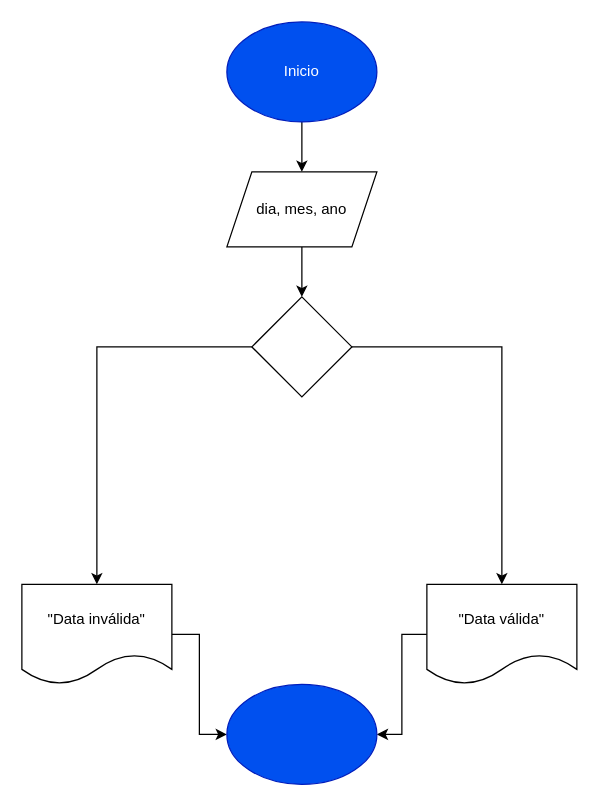
This 599x806 diagram has some shape labels left out. The box of each missing label's shape, as (x1, y1, x2, y2) in pixels:
dia <= 31 mes <= 12 ano <= 2023: (251, 296, 352, 397)
Fim: (226, 683, 377, 784)
